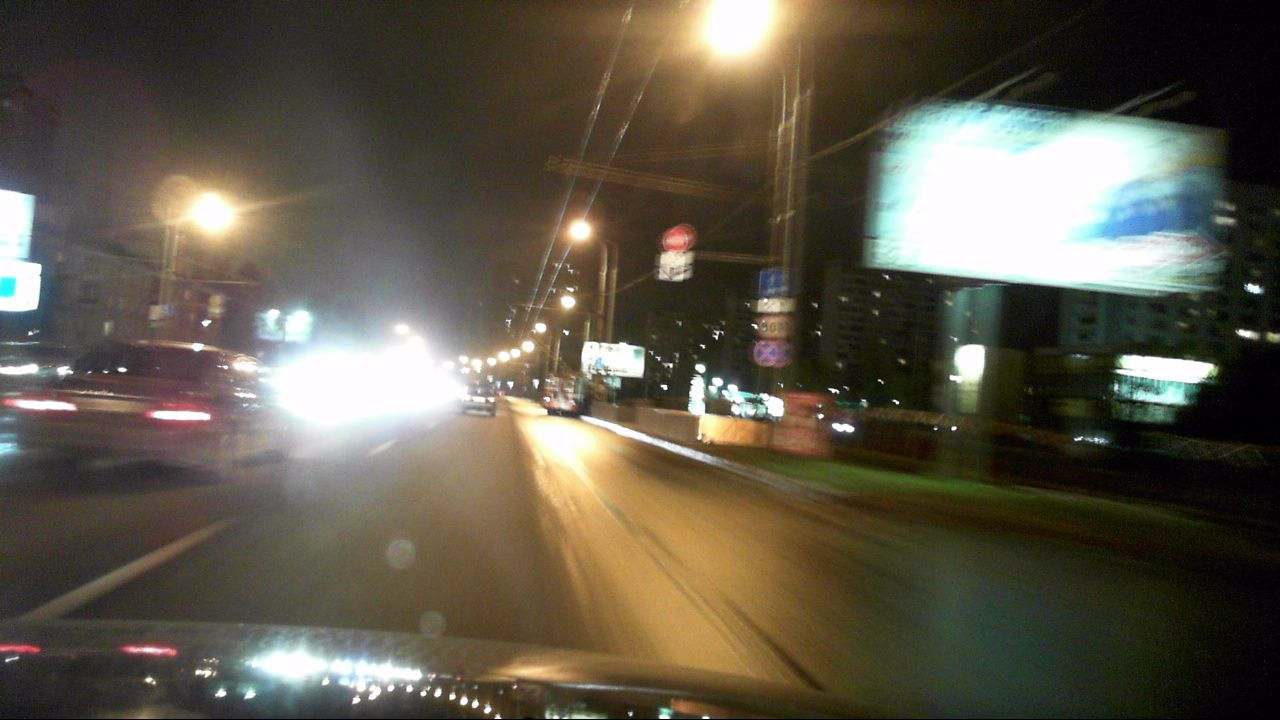No Parking: (753, 341, 781, 369)
